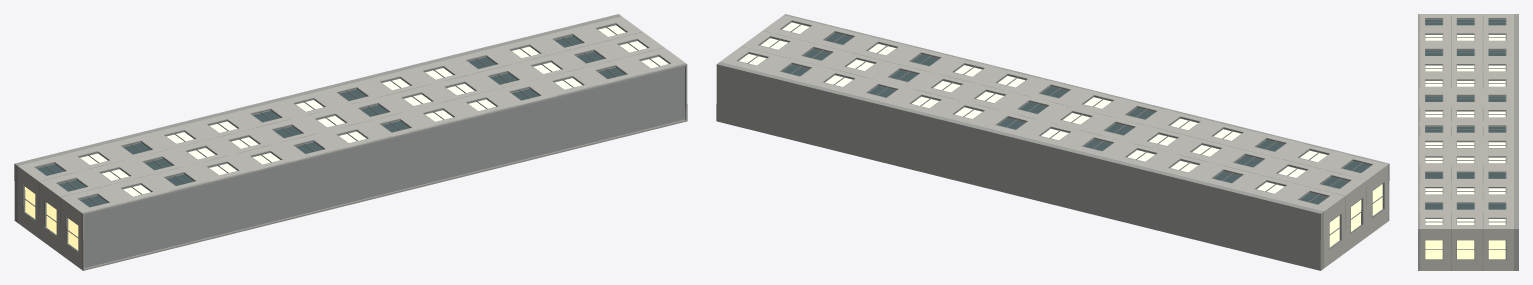
File: neutral-near.glb
The picture shows the model from 3 angles, left to right: view 1: azimuth 30°, elevation 25°; view 2: azimuth 150°, elevation 25°; view 3: azimuth 270°, elevation 25°; orthographic projection. The views are drawn at different scales.
Parts seen in each view (by area): view 1: way/504996495; view 2: way/504996495; view 3: way/504996495.
Part boxes in pixels (x1,y1,x2,y2): way/504996495: (14,14,687,270); way/504996495: (716,14,1389,270); way/504996495: (1418,14,1518,270).
Bounding box in the file's own units: 64.87 × 6.09 × 12.76.
